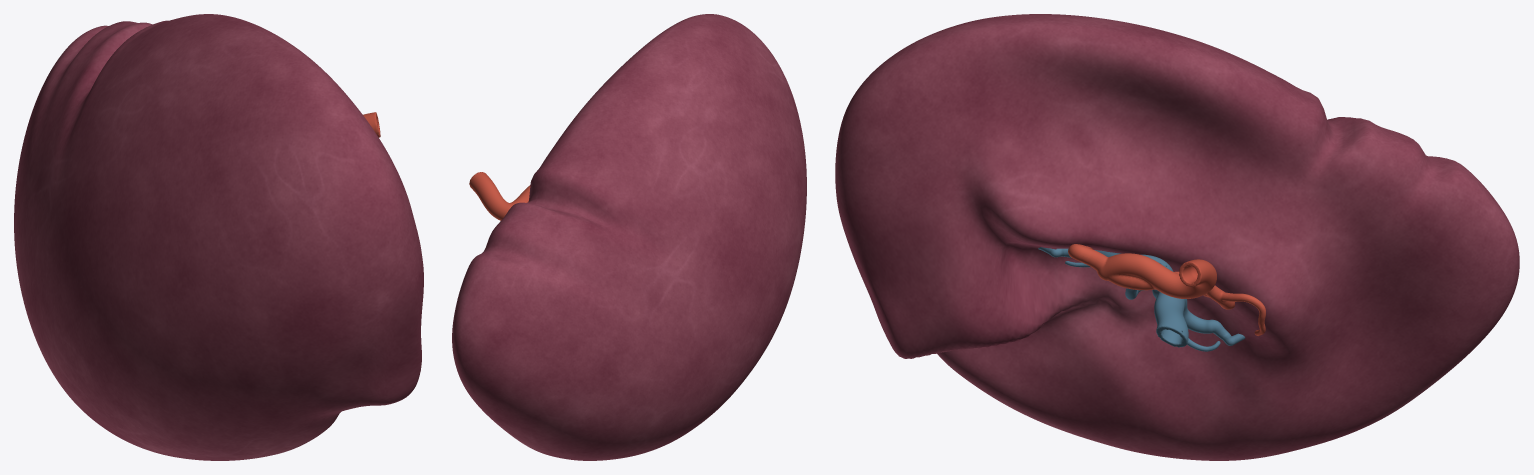
The model's file is whole.glb.
3 views of the same model, side by side, from view 1: azimuth 30°, elevation 25°; view 2: azimuth 150°, elevation 25°; view 3: azimuth 270°, elevation 25° (orthographic). The views are drawn at different scales.
Parts seen in each view (by area): view 1: Capsule; view 2: Capsule, SPL_HILAR_ARTERY; view 3: Capsule, SPL_HILAR_ARTERY, SPL_HILAR_VEIN.
Part boxes in pixels (x1=…): Capsule: x1=14, y1=14, x2=423, y2=460; Capsule: x1=452, y1=14, x2=806, y2=460; SPL_HILAR_ARTERY: x1=469, y1=172, x2=530, y2=220; Capsule: x1=835, y1=14, x2=1519, y2=460; SPL_HILAR_ARTERY: x1=1068, y1=244, x2=1265, y2=335; SPL_HILAR_VEIN: x1=1038, y1=247, x2=1245, y2=351.
Size of the model in its own units: 0.0616 by 0.0785 by 0.1097.
7 materials, 2 textured.
